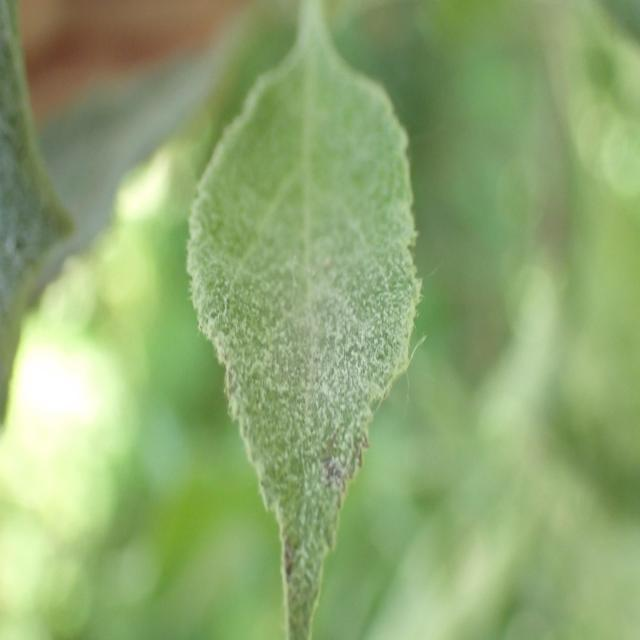Powdery_mildew: (187, 13, 424, 640), (0, 0, 75, 430)
